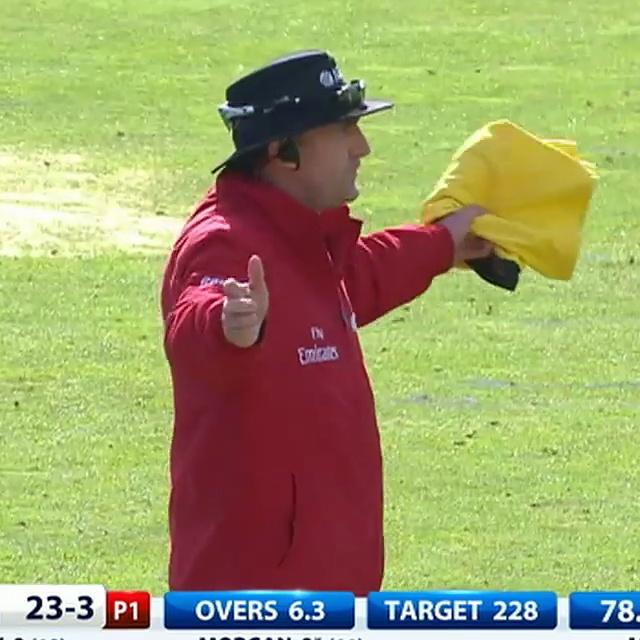umpire: (124, 14, 567, 597)
